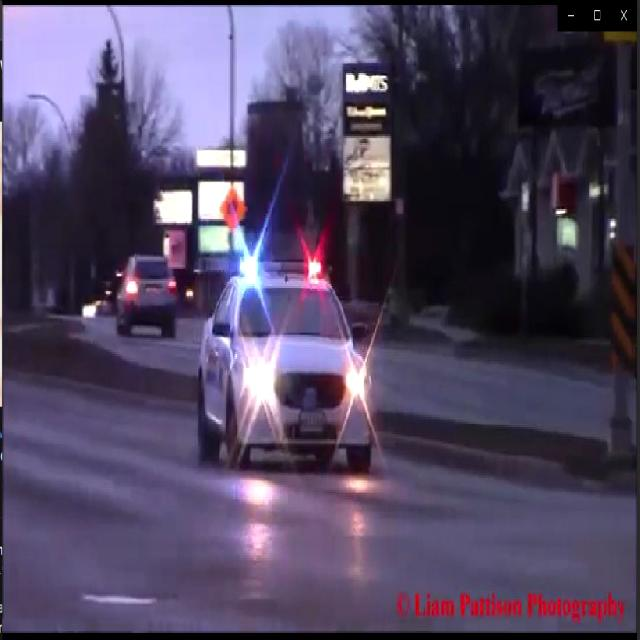emergency: (196, 240, 382, 466)
